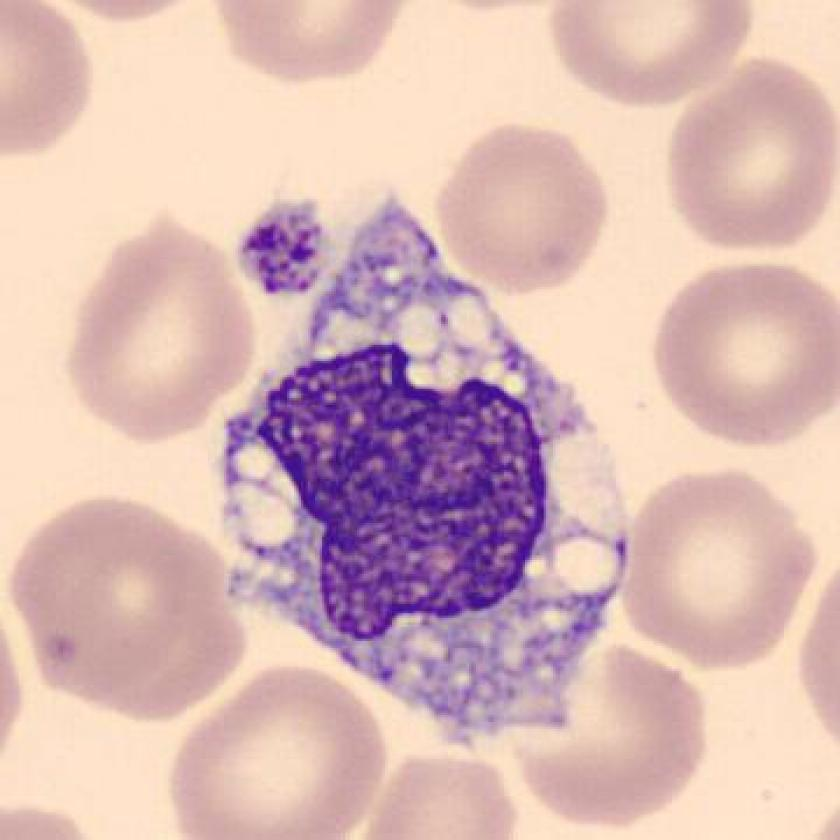monocyte: (202, 177, 645, 755)
